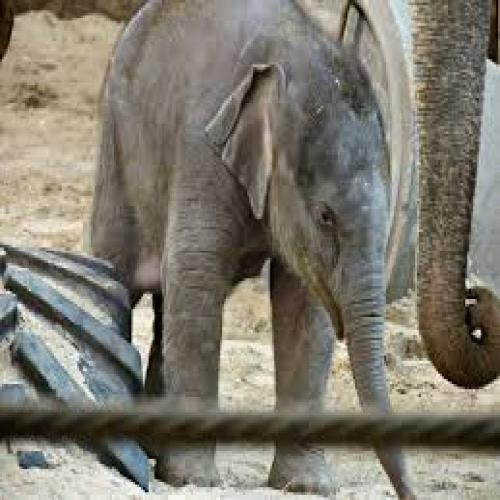asian_elephant-endangered: (88, 0, 419, 500), (407, 0, 500, 387)
